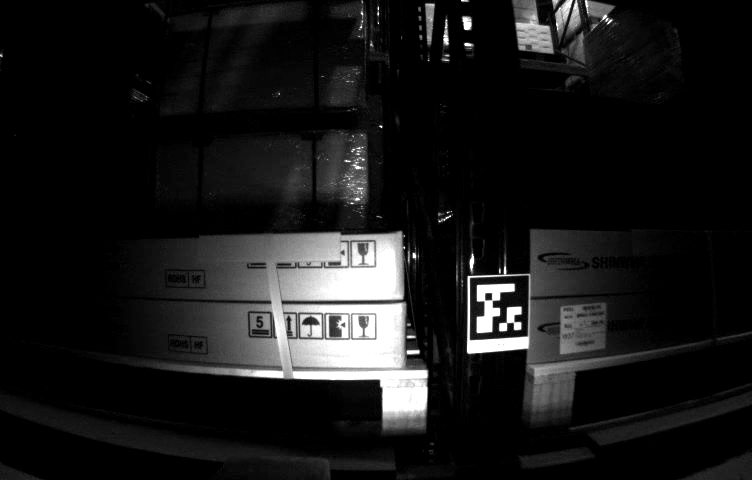True Barcode: (558, 302, 607, 354)
